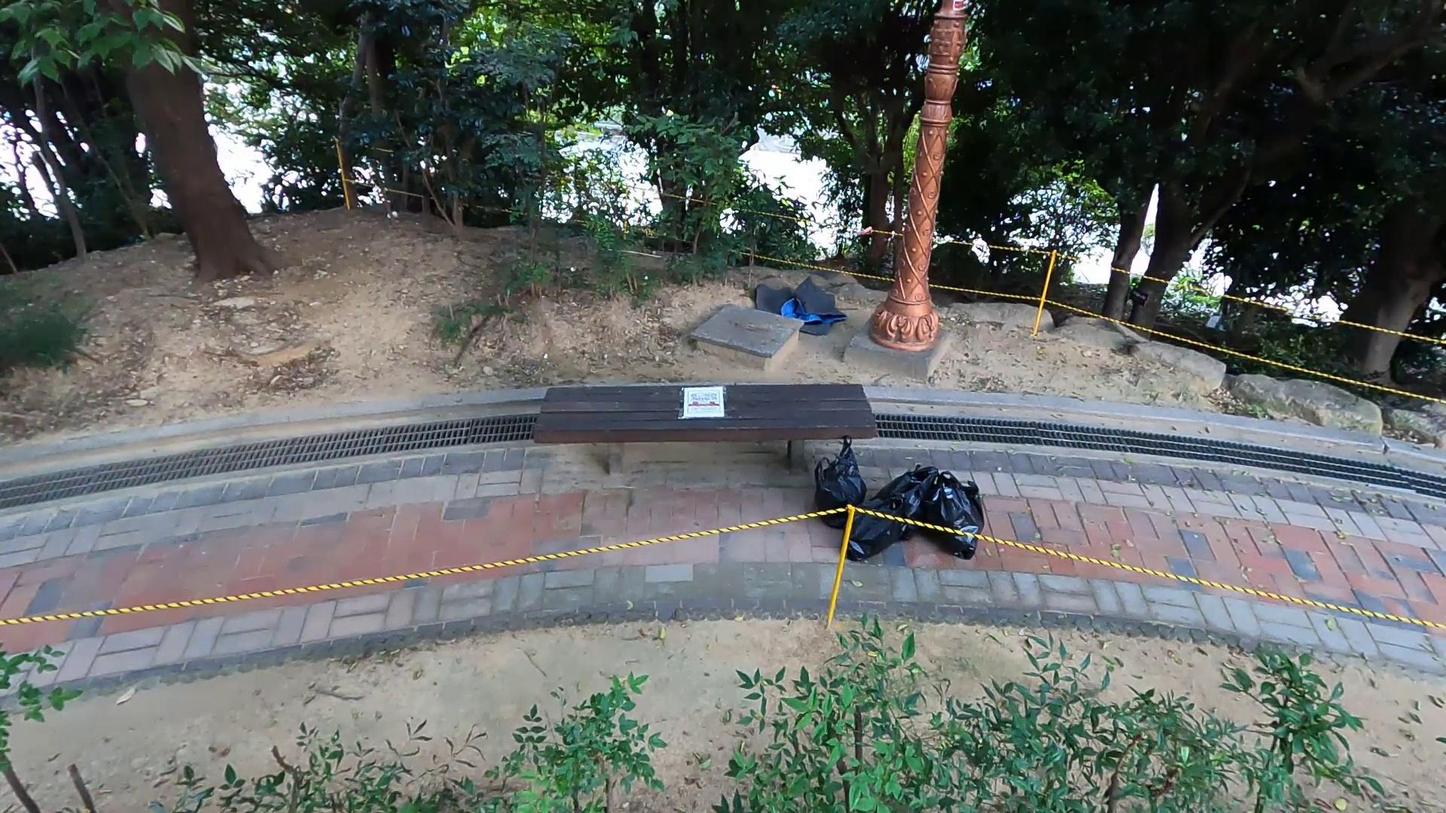trash: (751, 274, 849, 336), (932, 460, 985, 563), (811, 433, 867, 525), (879, 463, 940, 535), (842, 494, 907, 558)
